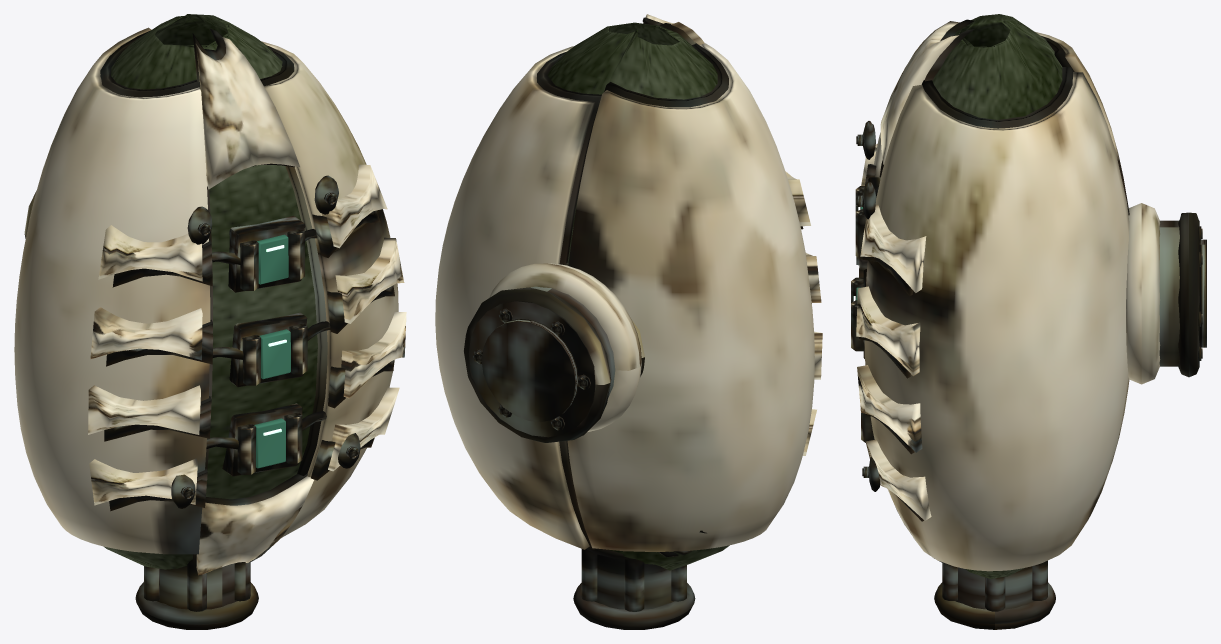
Rendered from organ-broodNode-icon-v3.glb.
The picture shows the model from 3 angles, left to right: view 1: azimuth 30°, elevation 25°; view 2: azimuth 150°, elevation 25°; view 3: azimuth 270°, elevation 25°; orthographic projection.
Visible parts, largest first — view 1: organ-broodNode-icon-v3-ceramic, organ-broodNode-icon-v3-steel, organ-broodNode-icon-v3-olive, organ-broodNode-icon-v3-brass, organ-broodNode-icon-v3-glass; view 2: organ-broodNode-icon-v3-ceramic, organ-broodNode-icon-v3-steel, organ-broodNode-icon-v3-olive, organ-broodNode-icon-v3-brass; view 3: organ-broodNode-icon-v3-ceramic, organ-broodNode-icon-v3-steel, organ-broodNode-icon-v3-olive, organ-broodNode-icon-v3-brass.
Part boxes in pixels (box(x1,y1,x2,y2)): organ-broodNode-icon-v3-ceramic: box(14, 27, 406, 575); organ-broodNode-icon-v3-steel: box(100, 29, 394, 629); organ-broodNode-icon-v3-olive: box(104, 14, 317, 569); organ-broodNode-icon-v3-brass: box(24, 191, 357, 497); organ-broodNode-icon-v3-glass: box(254, 234, 290, 468); organ-broodNode-icon-v3-ceramic: box(435, 14, 822, 551); organ-broodNode-icon-v3-steel: box(468, 17, 811, 629); organ-broodNode-icon-v3-olive: box(547, 22, 729, 570); organ-broodNode-icon-v3-brass: box(464, 262, 691, 555); organ-broodNode-icon-v3-ceramic: box(856, 21, 1160, 571); organ-broodNode-icon-v3-steel: box(857, 19, 1206, 629); organ-broodNode-icon-v3-olive: box(932, 14, 1062, 578); organ-broodNode-icon-v3-brass: box(851, 136, 1202, 476).
Size of the model in its own units: 0.5693 by 0.8973 by 0.4957.
4 materials, 2 textured.
